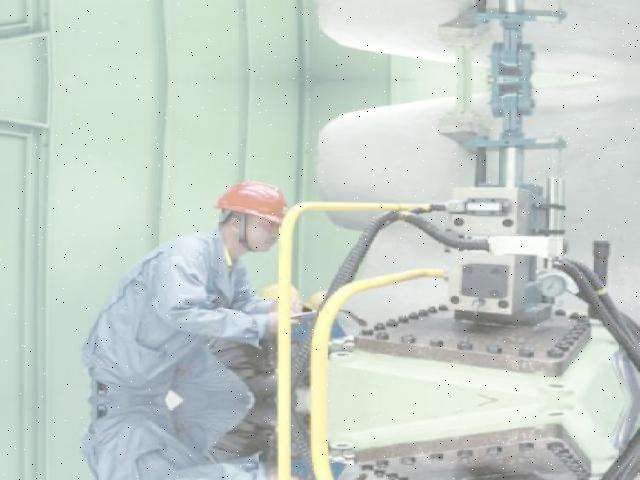Helmet: (215, 177, 293, 228)
